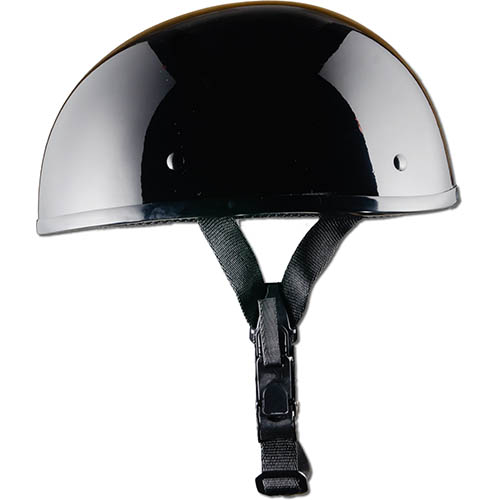with_helmet: (31, 3, 469, 252)
